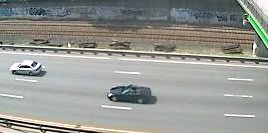car: (106, 82, 155, 106), (9, 59, 46, 78)
